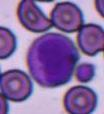M: (26, 33, 76, 88)
